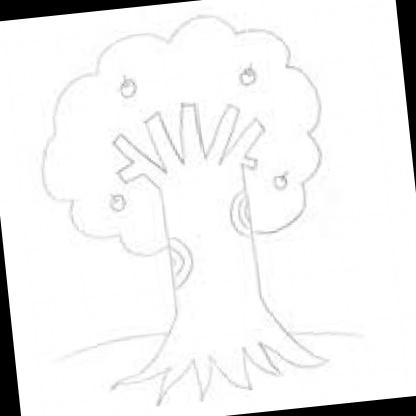apple: (113, 72, 138, 100), (239, 62, 257, 88), (107, 192, 128, 211), (272, 170, 290, 192)
branch_cut: (107, 94, 270, 188)
crown_cloud: (30, 6, 334, 264)
knot: (166, 233, 198, 288), (224, 190, 254, 238)
root_upside: (104, 302, 332, 414)
trunk_straight: (157, 186, 264, 309)
